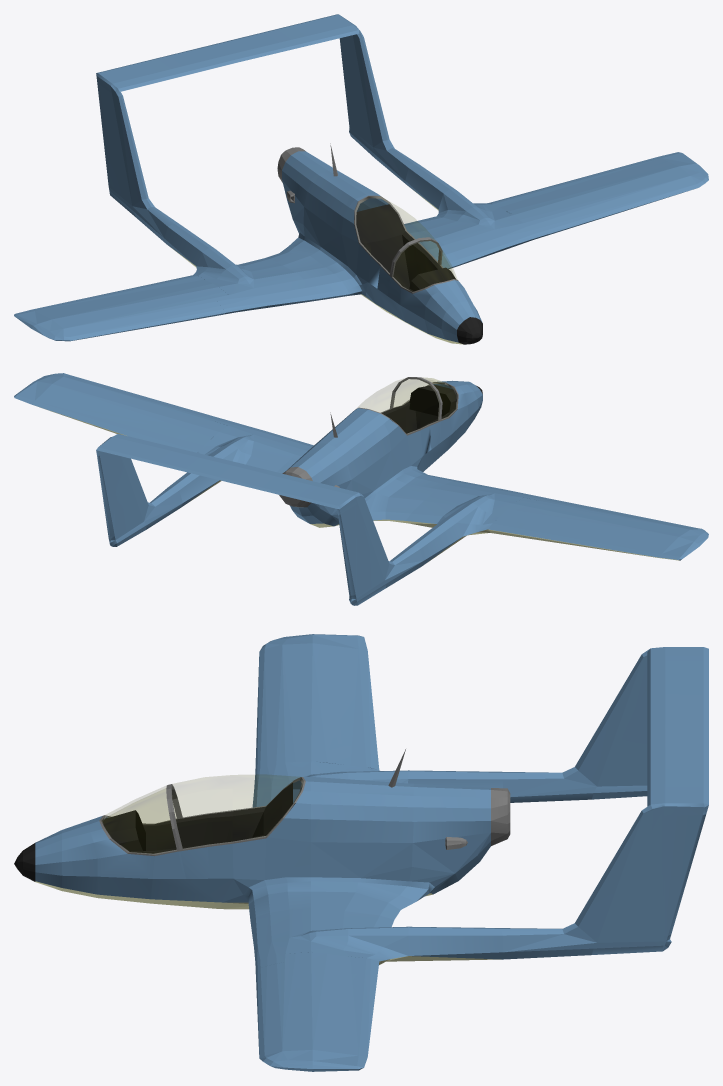
Rendered from aircraft_5_breakaway.glb.
3 renders of one model, top to bottom at view 1: azimuth 30°, elevation 25°; view 2: azimuth 150°, elevation 25°; view 3: azimuth 270°, elevation 25°, orthographic. The views are drawn at different scales.
Parts seen in each view (by area): view 1: body, OuterWingLeft, OuterWingRight, elevator, VerticalTipRight, VerticalTipLeft, HorizontalBridge, outer wing left, aileron left, outer wing right, aileron right, canopy (+3 smaller); view 2: body, elevator, OuterWingLeft, OuterWingRight, aileron right, aileron left, outer wing right, outer wing left, rudder left, rudder right, VerticalTipRight, instrument panel (+3 smaller); view 3: body, OuterWingRight, elevator, OuterWingLeft, canopy, VerticalTipLeft, aileron right, aileron left, rudder right, outer wing right, VerticalTipRight, outer wing left (+2 smaller).
Part boxes in pixels (x1=…): body: x1=108, y1=86, x2=548, y2=344; OuterWingLeft: x1=544, y1=157, x2=708, y2=226; OuterWingRight: x1=22, y1=290, x2=197, y2=341; elevator: x1=96, y1=14, x2=355, y2=92; VerticalTipRight: x1=110, y1=76, x2=155, y2=166; VerticalTipLeft: x1=320, y1=25, x2=380, y2=107; HorizontalBridge: x1=147, y1=33, x2=323, y2=82; outer wing left: x1=488, y1=195, x2=575, y2=235; aileron left: x1=517, y1=152, x2=688, y2=201; outer wing right: x1=166, y1=275, x2=228, y2=319; aileron right: x1=14, y1=281, x2=180, y2=321; canopy: x1=354, y1=195, x2=439, y2=275; body: x1=108, y1=377, x2=545, y2=605; elevator: x1=96, y1=436, x2=356, y2=514; OuterWingLeft: x1=23, y1=373, x2=194, y2=429; OuterWingRight: x1=544, y1=503, x2=708, y2=552; aileron right: x1=517, y1=519, x2=690, y2=560; aileron left: x1=14, y1=389, x2=180, y2=445; outer wing right: x1=488, y1=497, x2=573, y2=536; outer wing left: x1=168, y1=411, x2=228, y2=452; rudder left: x1=338, y1=504, x2=357, y2=595; rudder right: x1=97, y1=452, x2=116, y2=536; VerticalTipRight: x1=320, y1=483, x2=379, y2=555; instrument panel: x1=409, y1=384, x2=456, y2=416; body: x1=14, y1=723, x2=671, y2=970; OuterWingRight: x1=256, y1=634, x2=337, y2=741; elevator: x1=663, y1=647, x2=708, y2=815; OuterWingLeft: x1=256, y1=975, x2=337, y2=1071; canopy: x1=168, y1=775, x2=305, y2=849; VerticalTipLeft: x1=596, y1=779, x2=663, y2=892; aileron right: x1=337, y1=635, x2=377, y2=749; aileron left: x1=337, y1=971, x2=377, y2=1070; rudder right: x1=663, y1=814, x2=705, y2=935; outer wing right: x1=255, y1=729, x2=379, y2=769; VerticalTipRight: x1=596, y1=647, x2=663, y2=736; outer wing left: x1=255, y1=952, x2=379, y2=986.
Bounding box in the file's own units: 13.53 × 2.62 × 9.16.
